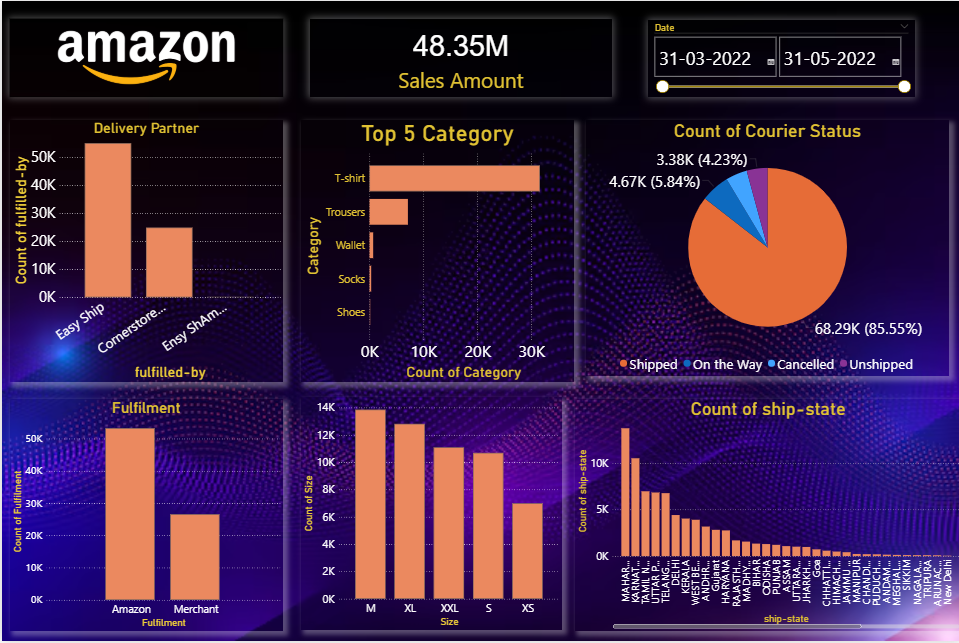

The page's visual inventory and layout, read from the dashboard file:
{"tool":"powerbi","page":{"name":"Page 1","canvas":[1920,1280],"ordinal":0},"visuals":[{"type":"image","box":[15.7,35.3,547.1,156.9],"z":0},{"type":"card","fields":{"Values":["Sum(Amazon Sale Report.Amount)"]},"box":[615.7,35.3,605.9,156.9],"z":1000},{"type":"slicer","fields":{"Values":["Amazon Sale Report.Date"]},"box":[1292.2,37.3,533.3,154.9],"z":2000},{"type":"barChart","title":"Top 5 Category","fields":{"Category":["Amazon Sale Report.Category"],"Y":["CountNonNull(Amazon Sale Report.Category)"]},"box":[597.5,237.5,547.5,525],"z":3000},{"type":"pieChart","title":"Count of Courier Status ","fields":{"Category":["Amazon Sale Report.Courier Status"],"Y":["CountNonNull(Amazon Sale Report.Courier Status)"]},"box":[1167.5,237.5,727.5,512.5],"z":4000},{"type":"columnChart","title":"Delivery Partner","fields":{"Category":["Amazon Sale Report.fulfilled-by"],"Y":["CountNonNull(Amazon Sale Report.fulfilled-by)"]},"box":[15,237.5,547.5,525],"z":5000},{"type":"columnChart","title":"Fulfilment","fields":{"Category":["Amazon Sale Report.Fulfilment"],"Y":["CountNonNull(Amazon Sale Report.Fulfilment)"]},"box":[15.7,794.1,547.1,464.7],"z":6000},{"type":"columnChart","fields":{"Category":["Amazon Sale Report.Size"],"Y":["CountNonNull(Amazon Sale Report.Size)"]},"box":[597.5,792.5,522.5,465],"z":7000},{"type":"columnChart","title":"Count of ship-state ","fields":{"Category":["Amazon Sale Report.ship-state"],"Y":["CountNonNull(Amazon Sale Report.ship-state)"]},"box":[1145,795,775,465],"z":8000}]}

Visuals, with their boxes in screenshot pixels (x1, y1, x2, y2), scaled from the page's 1920x1280 canvas onto the 959x643 screenshot:
image: <region>8, 18, 281, 97</region>
card - Sum(Amazon Sale Report.Amount): <region>308, 18, 610, 97</region>
slicer - Amazon Sale Report.Date: <region>645, 19, 912, 97</region>
"Top 5 Category" barChart: <region>298, 119, 572, 383</region>
"Count of Courier Status " pieChart: <region>583, 119, 947, 377</region>
"Delivery Partner" columnChart: <region>7, 119, 281, 383</region>
"Fulfilment" columnChart: <region>8, 399, 281, 632</region>
columnChart - Amazon Sale Report.Size x CountNonNull(Amazon Sale Report.Size): <region>298, 398, 559, 632</region>
"Count of ship-state " columnChart: <region>572, 399, 958, 633</region>
